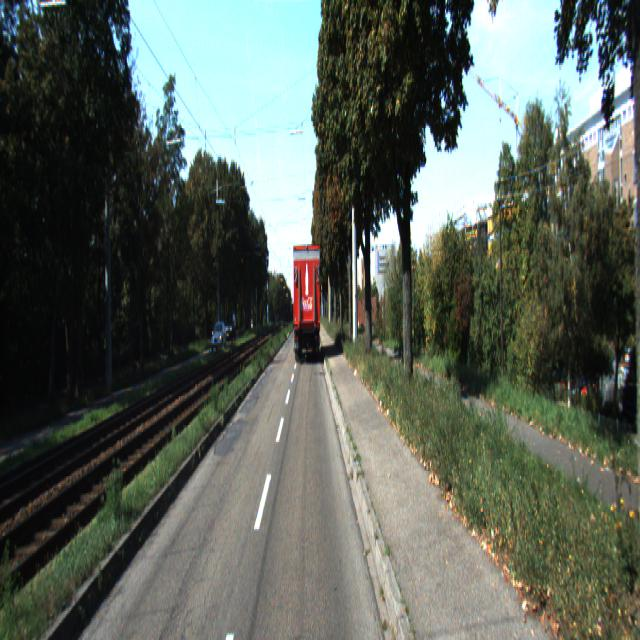Car: (291, 237, 322, 362), (210, 320, 227, 352)
